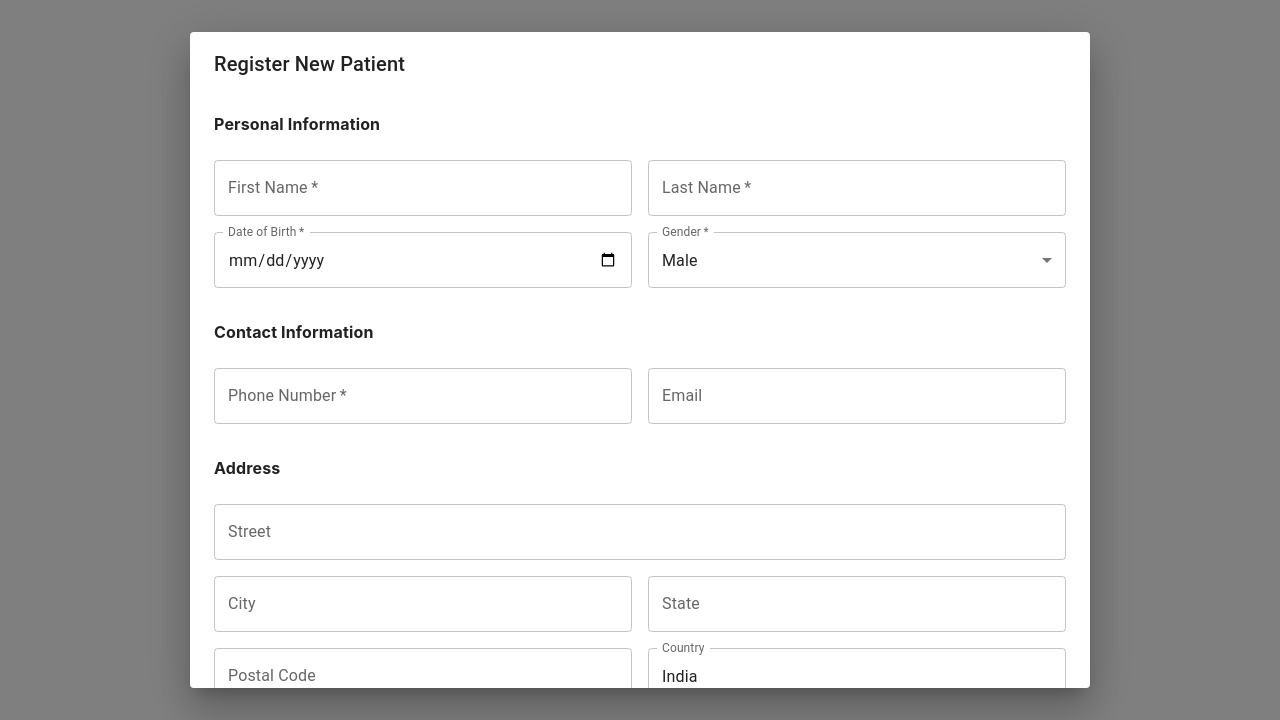
Test: PatientForm › should display error message when creation fails
Type "John" into the field labelled "First Name *" at coordinates (423, 188), box [214, 160, 632, 216]
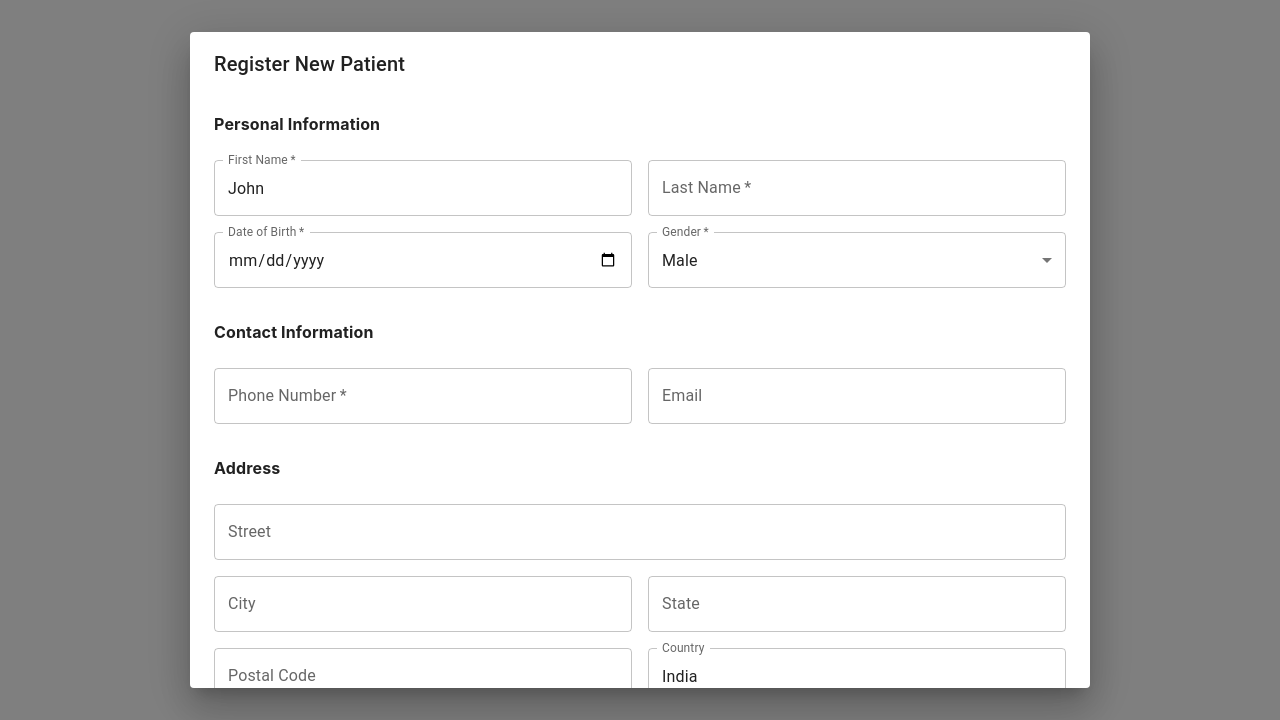
Type "Doe" into the field labelled "Last Name *" at coordinates (857, 188), box [648, 160, 1066, 216]
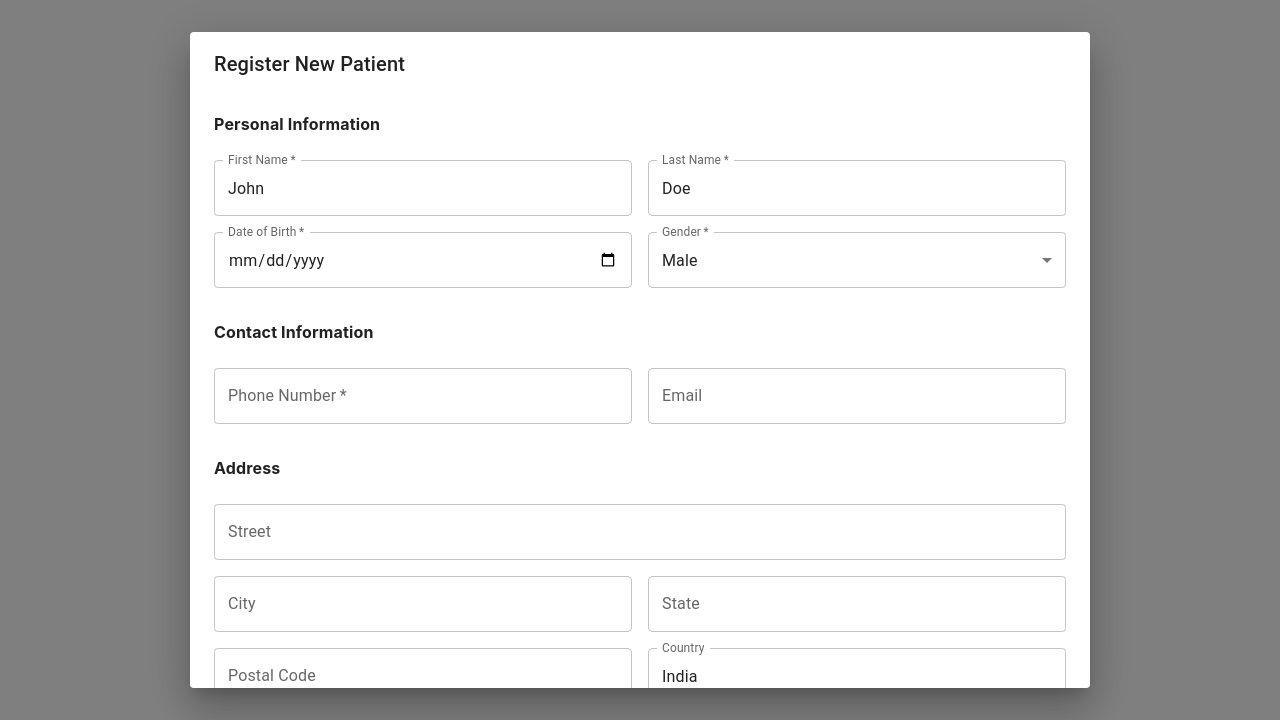
Type "1990-01-01" into the date field labelled "Date of Birth *" at coordinates (423, 260), box [214, 232, 632, 288]
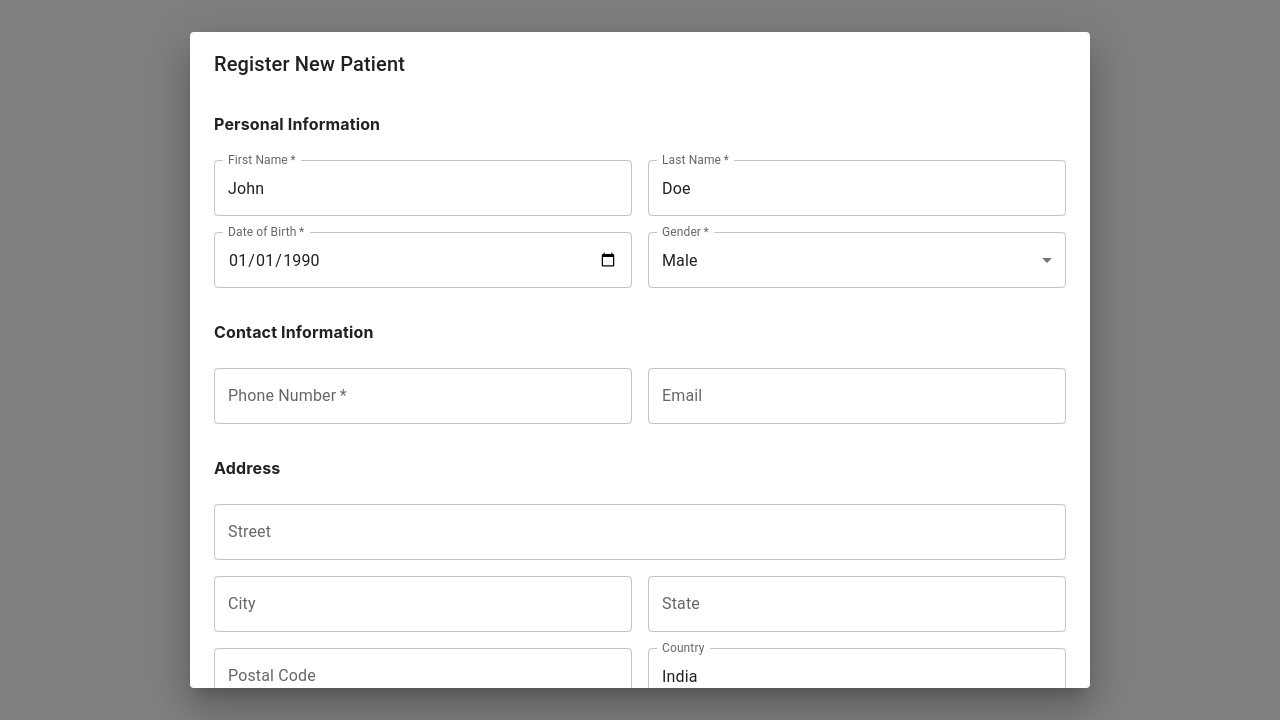
Type "1234567890" into the field labelled "Phone Number *" at coordinates (423, 396), box [214, 368, 632, 424]
(page scrolled)
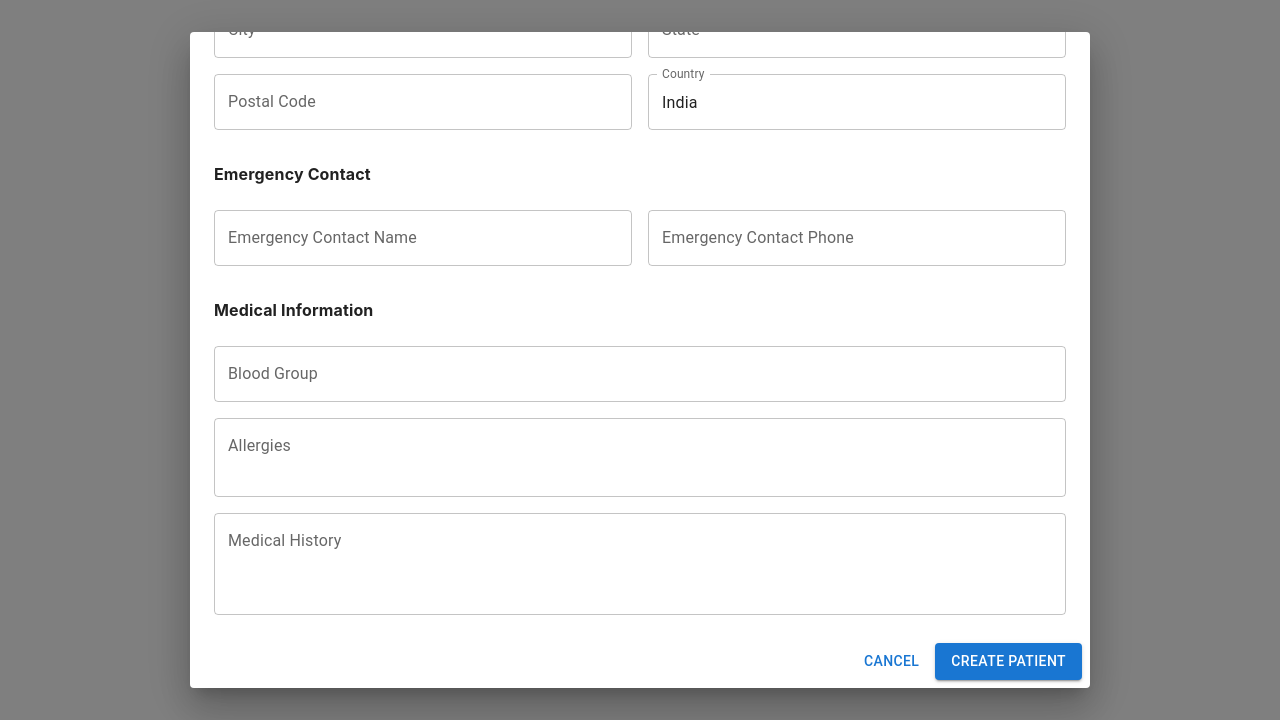
Click the button "Create Patient" at coordinates (1009, 661), box [935, 643, 1082, 680]
(page scrolled)
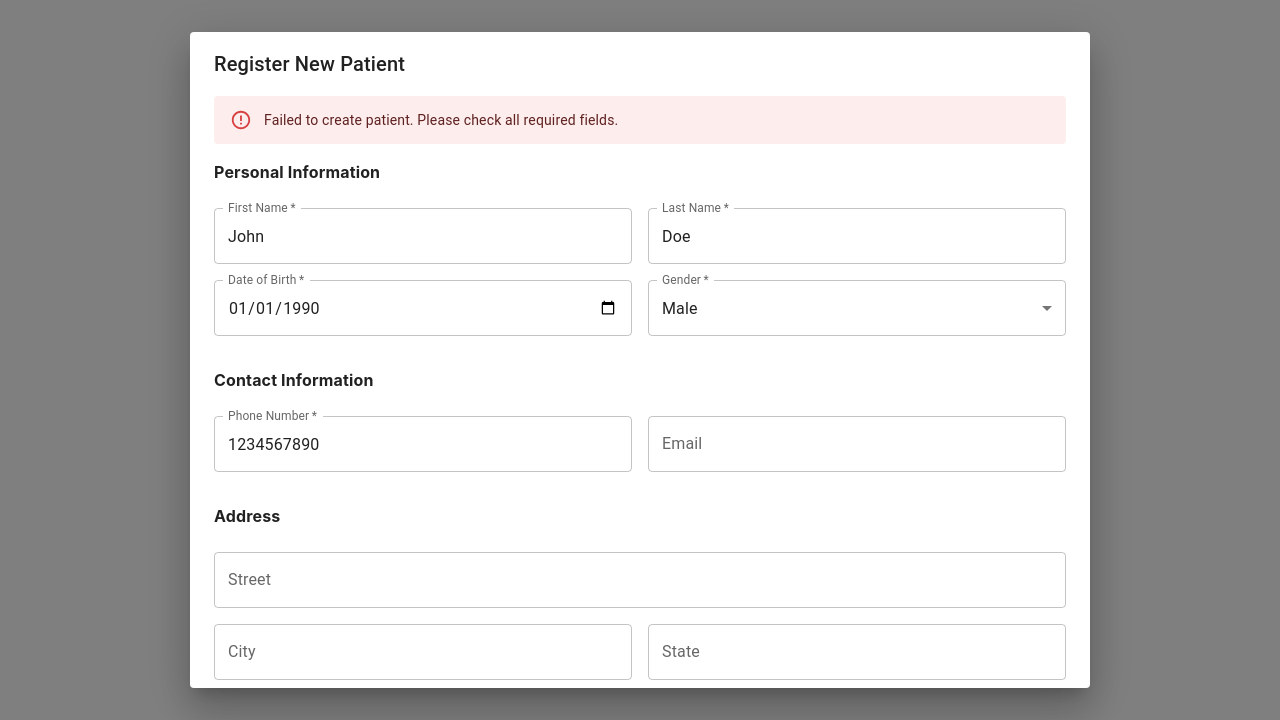
Now the text "Failed to create patient. Please check all required fields." is shown, box [264, 112, 618, 128]
